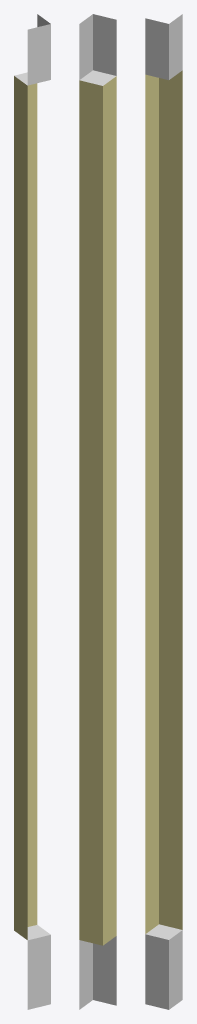
File: Wall_Corner_Post.fbx
3 renders of one model, left to right at view 1: azimuth 30°, elevation 25°; view 2: azimuth 150°, elevation 25°; view 3: azimuth 330°, elevation 25°, orthographic.
Parts seen in each view (by area): view 1: Plane.002; view 2: Plane.002; view 3: Plane.002.
Boxes of the visible parts, box(x1,y1,x2,y2) form: Plane.002: box(14, 14, 50, 1009); Plane.002: box(79, 14, 116, 1009); Plane.002: box(145, 14, 182, 1009).
Bounding box in the file's own units: 10 × 400 × 10.04.
